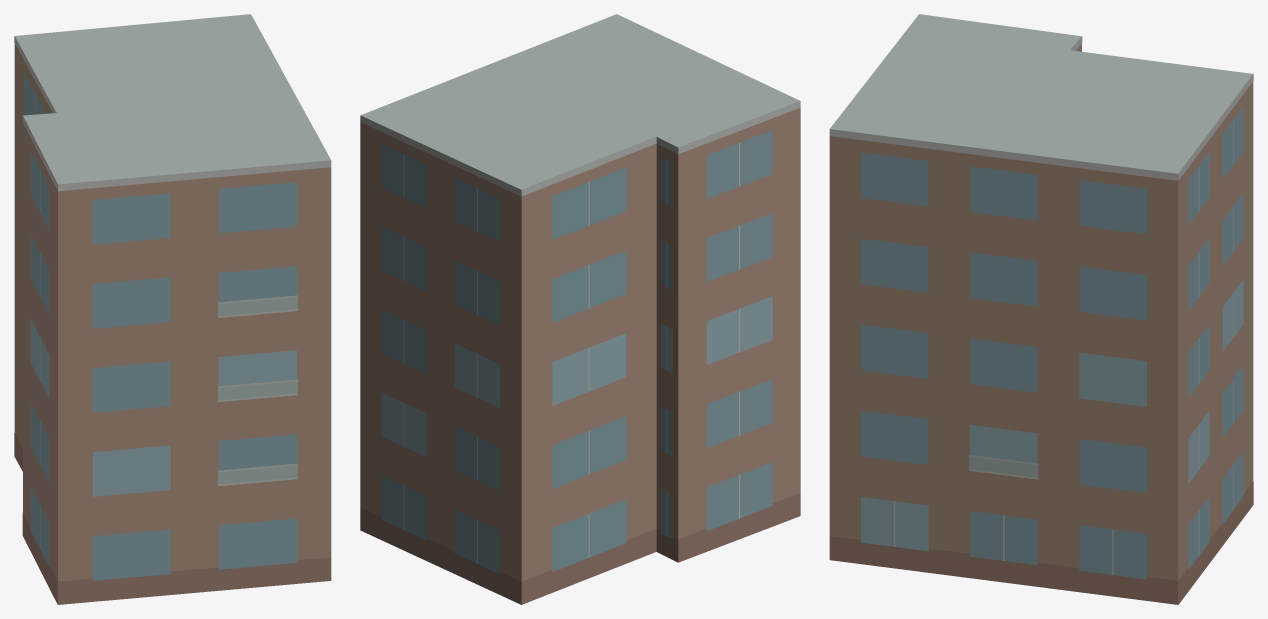
Rendered from survey-upis-32975507.glb.
The picture shows the model from 3 angles, left to right: view 1: azimuth 30°, elevation 25°; view 2: azimuth 150°, elevation 25°; view 3: azimuth 270°, elevation 25°; orthographic projection. The views are drawn at different scales.
Parts seen in each view (by area): view 1: survey-upis-32975507.tmp; view 2: survey-upis-32975507.tmp; view 3: survey-upis-32975507.tmp.
Boxes of the visible parts, bbox=[...] form: survey-upis-32975507.tmp: bbox=[14, 14, 331, 604]; survey-upis-32975507.tmp: bbox=[360, 14, 800, 604]; survey-upis-32975507.tmp: bbox=[829, 14, 1253, 604].
Bounding box in the file's own units: 11.94 × 15 × 13.38.
